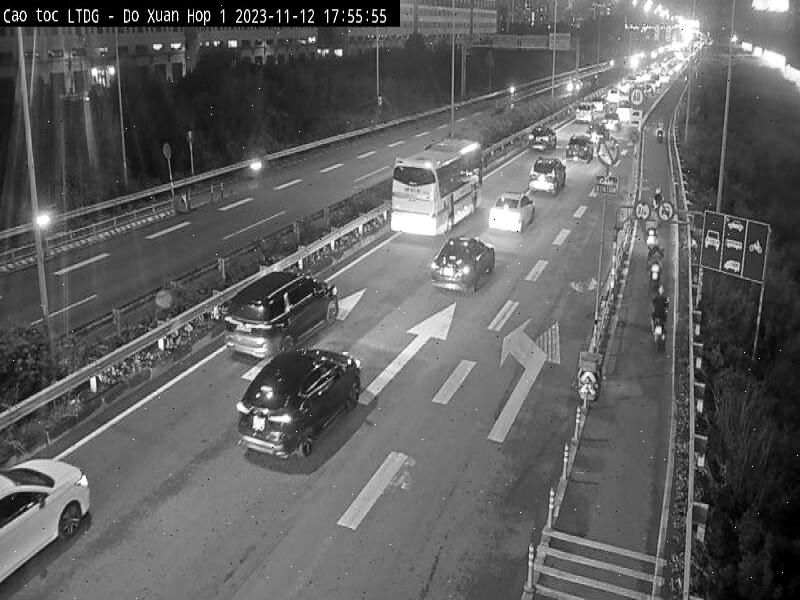bus: (390, 127, 486, 242)
